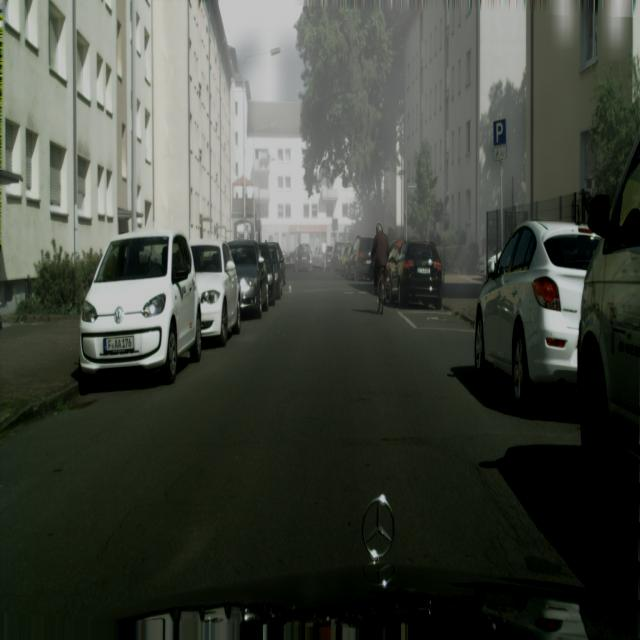car: (377, 268, 386, 314)
person: (369, 222, 389, 307)
rider: (576, 130, 640, 487)
truck: (473, 220, 602, 406), (577, 130, 640, 489), (78, 229, 202, 393), (189, 238, 241, 345), (386, 239, 443, 310), (227, 240, 268, 318), (257, 242, 278, 306), (349, 236, 374, 281), (269, 242, 285, 296), (294, 244, 312, 272), (339, 243, 351, 278), (330, 243, 343, 271)
